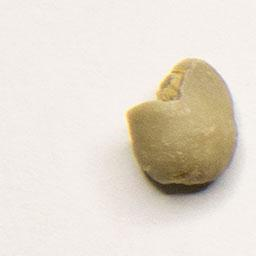defect: (121, 50, 243, 196)
